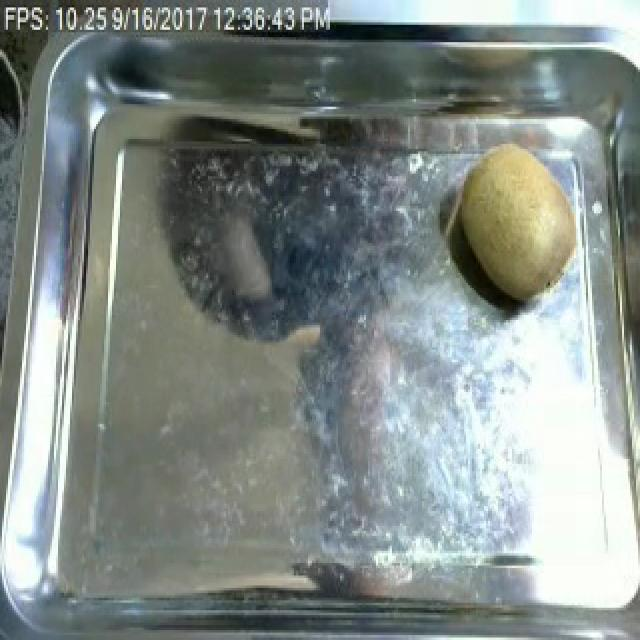Fruit: (450, 134, 588, 310)
